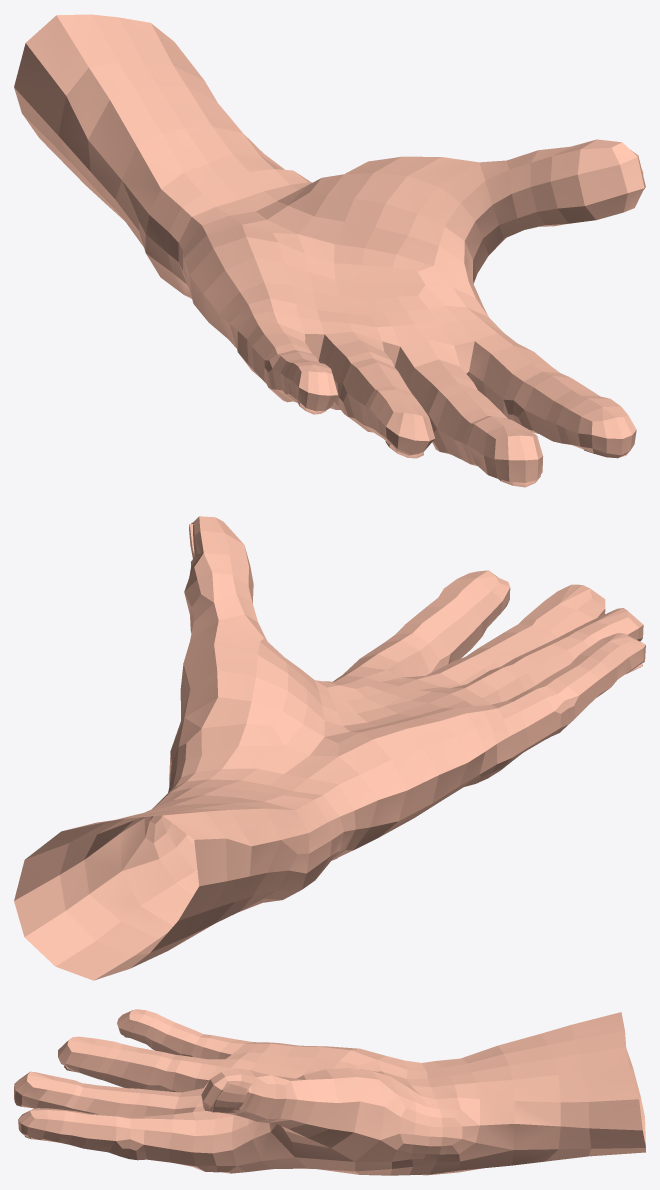
The model's file is 4_8_HandPolygonalLeftFront.glb.
3 renders of one model, top to bottom at view 1: azimuth 30°, elevation 25°; view 2: azimuth 150°, elevation 25°; view 3: azimuth 270°, elevation 25°, orthographic. The views are drawn at different scales.
Visible parts, largest first — view 1: hand1_polySurface891.006; view 2: hand1_polySurface891.006; view 3: hand1_polySurface891.006.
Part boxes in pixels (box(x1,y1,x2,y2)): hand1_polySurface891.006: box(14, 14, 645, 487); hand1_polySurface891.006: box(14, 516, 645, 980); hand1_polySurface891.006: box(14, 1009, 645, 1175).
Bounding box in the file's own units: 0.0875 × 0.0487 × 0.1779.
